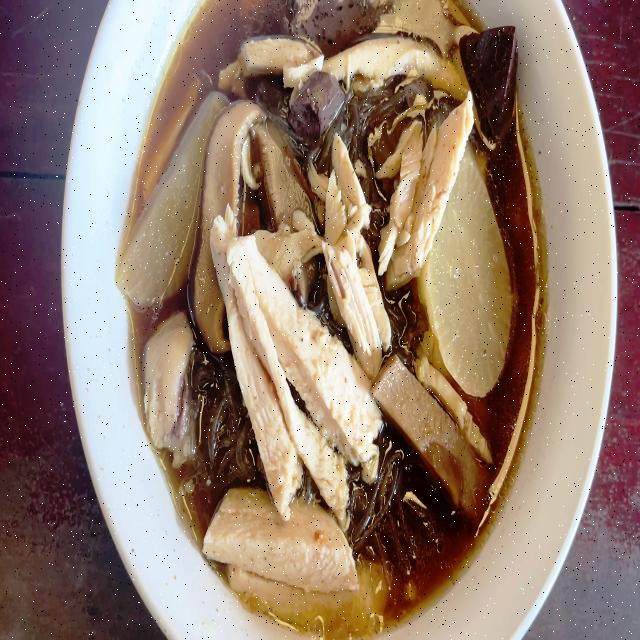boiled_chicken_blood_jelly: (461, 30, 524, 132), (288, 0, 377, 53), (292, 77, 343, 133)
chicken_shredded: (216, 212, 387, 634), (374, 103, 474, 284), (226, 34, 462, 98), (141, 325, 199, 456)
daikon_radish: (116, 98, 214, 310), (441, 180, 506, 387)
noodle: (135, 0, 548, 629)
